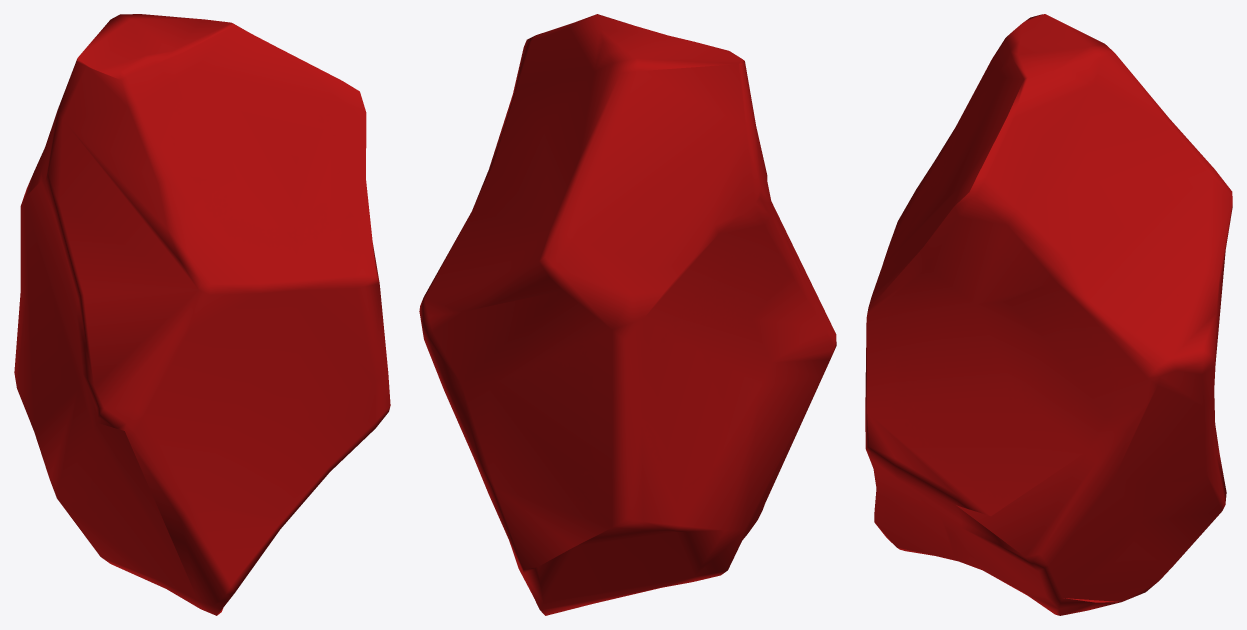
The model's file is Alchemy Crystal 6.fbx.
3 views of the same model, side by side, from view 1: azimuth 30°, elevation 25°; view 2: azimuth 150°, elevation 25°; view 3: azimuth 270°, elevation 25° (orthographic). The views are drawn at different scales.
Visible parts, largest first — view 1: Alchemy_Crystal_6; view 2: Alchemy_Crystal_6; view 3: Alchemy_Crystal_6.
Part boxes in pixels (x1,y1,x2,y2): Alchemy_Crystal_6: [14, 14, 390, 615]; Alchemy_Crystal_6: [419, 14, 836, 615]; Alchemy_Crystal_6: [865, 14, 1232, 615].
Bounding box in the file's own units: 4.39 × 7.62 × 4.87.
Materials: 1 (1 with a texture image).
